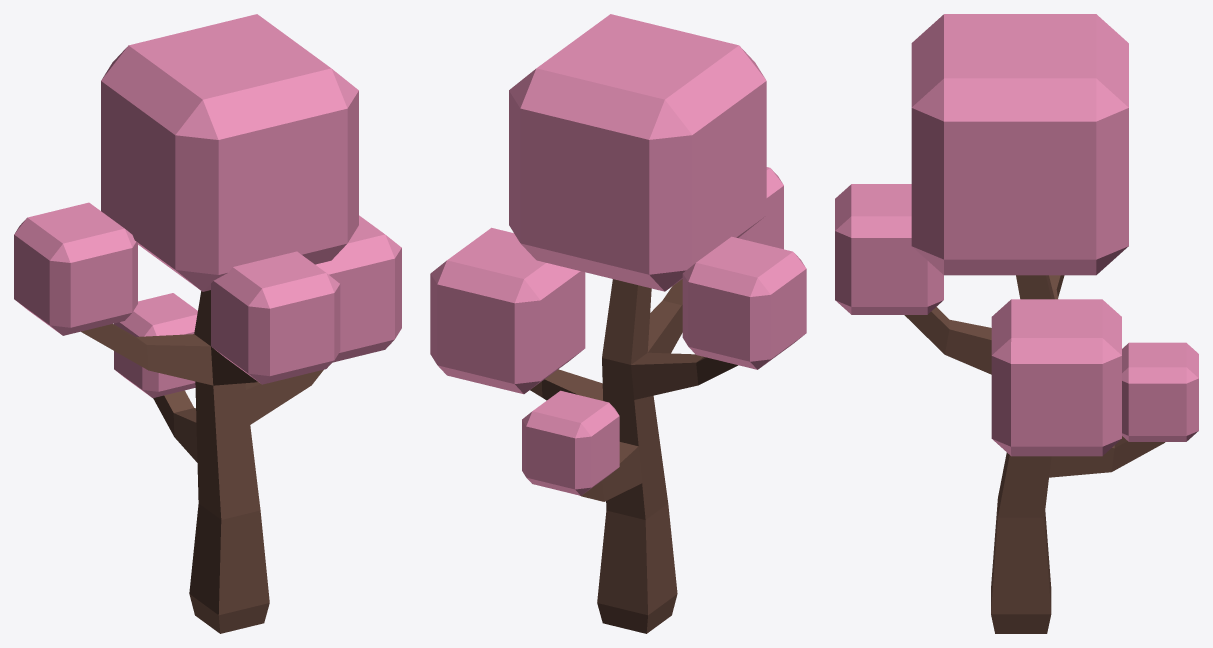
Rendered from arbre-rose-2.glb.
3 views of the same model, side by side, from view 1: azimuth 30°, elevation 25°; view 2: azimuth 150°, elevation 25°; view 3: azimuth 270°, elevation 25° (orthographic). The views are drawn at different scales.
Parts seen in each view (by area): view 1: tree_detailed_fall; view 2: tree_detailed_fall; view 3: tree_detailed_fall.
Boxes of the visible parts, x1,y1,x2,y2 form: tree_detailed_fall: (14, 14, 401, 633); tree_detailed_fall: (430, 14, 806, 633); tree_detailed_fall: (835, 14, 1198, 633).
Bounding box in the file's own units: 5.09 × 8 × 4.57.
